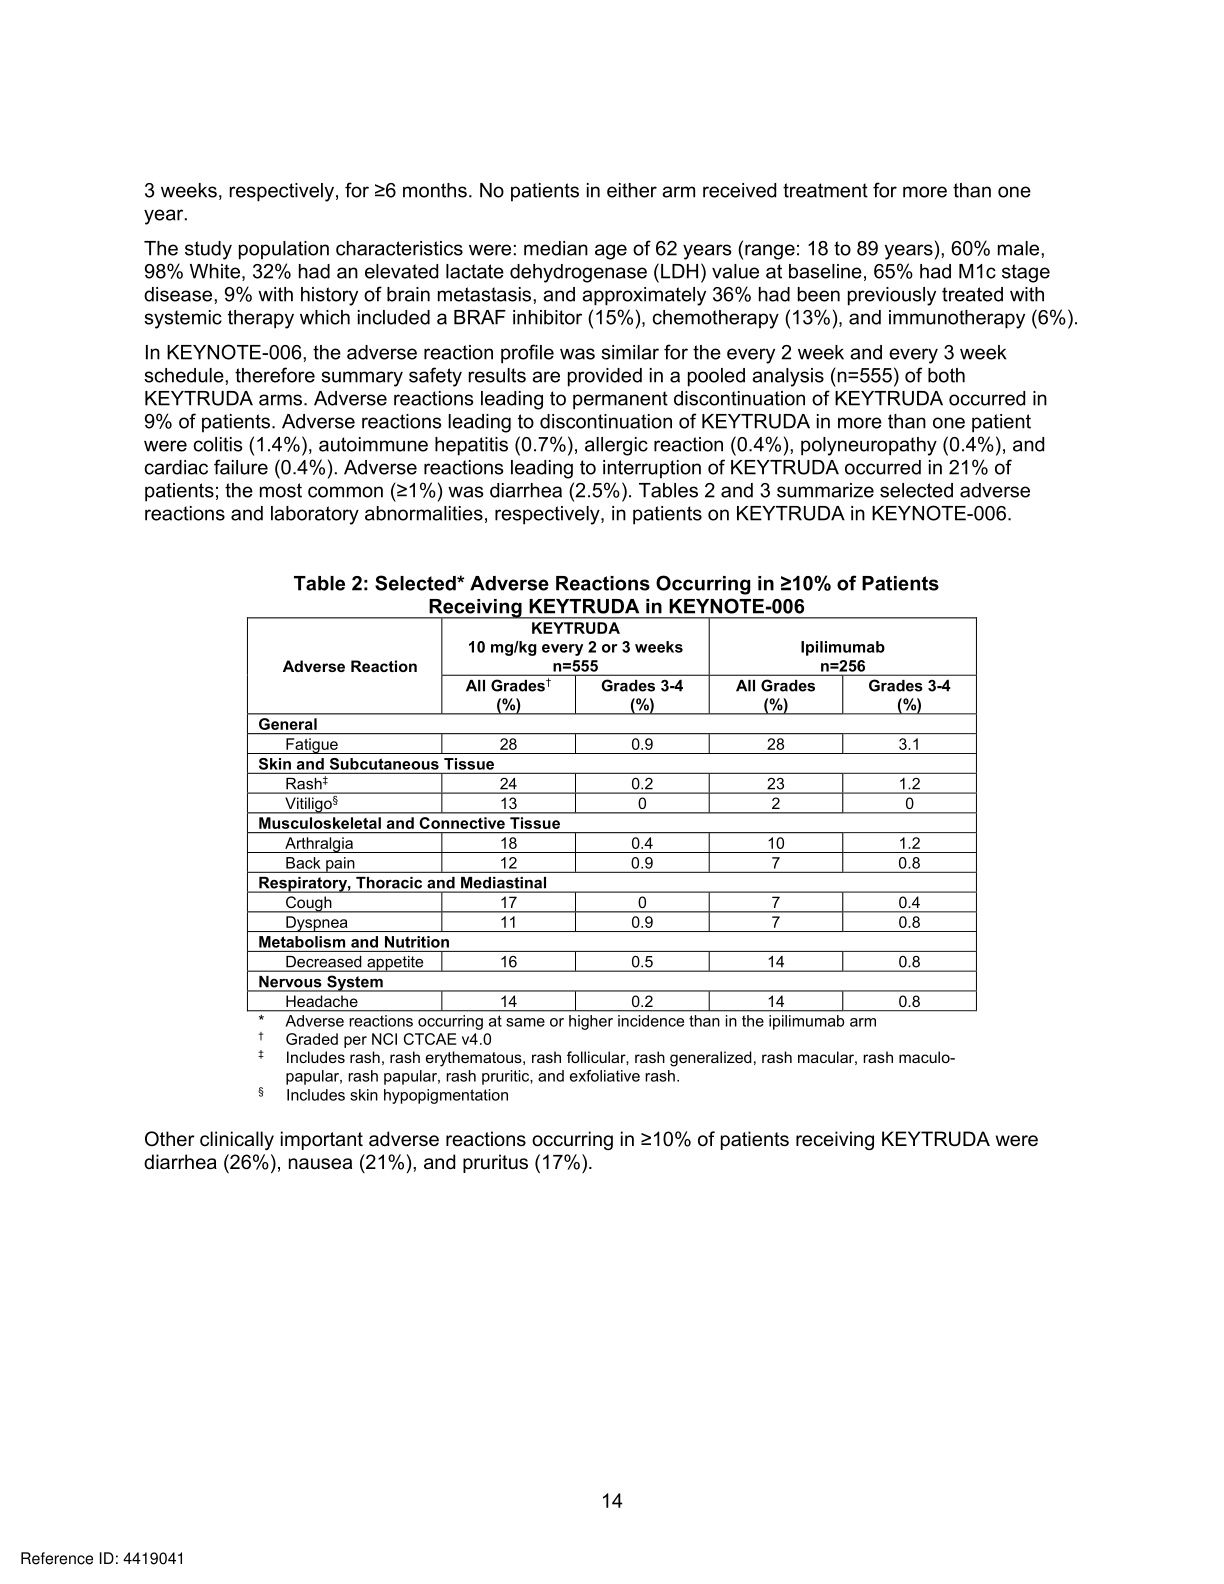merged_cells: (246, 616, 978, 1014)
